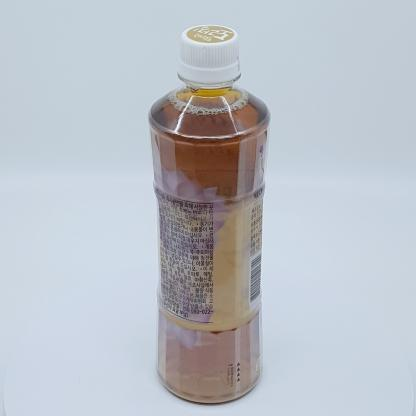------------500ML: (148, 24, 270, 407)
